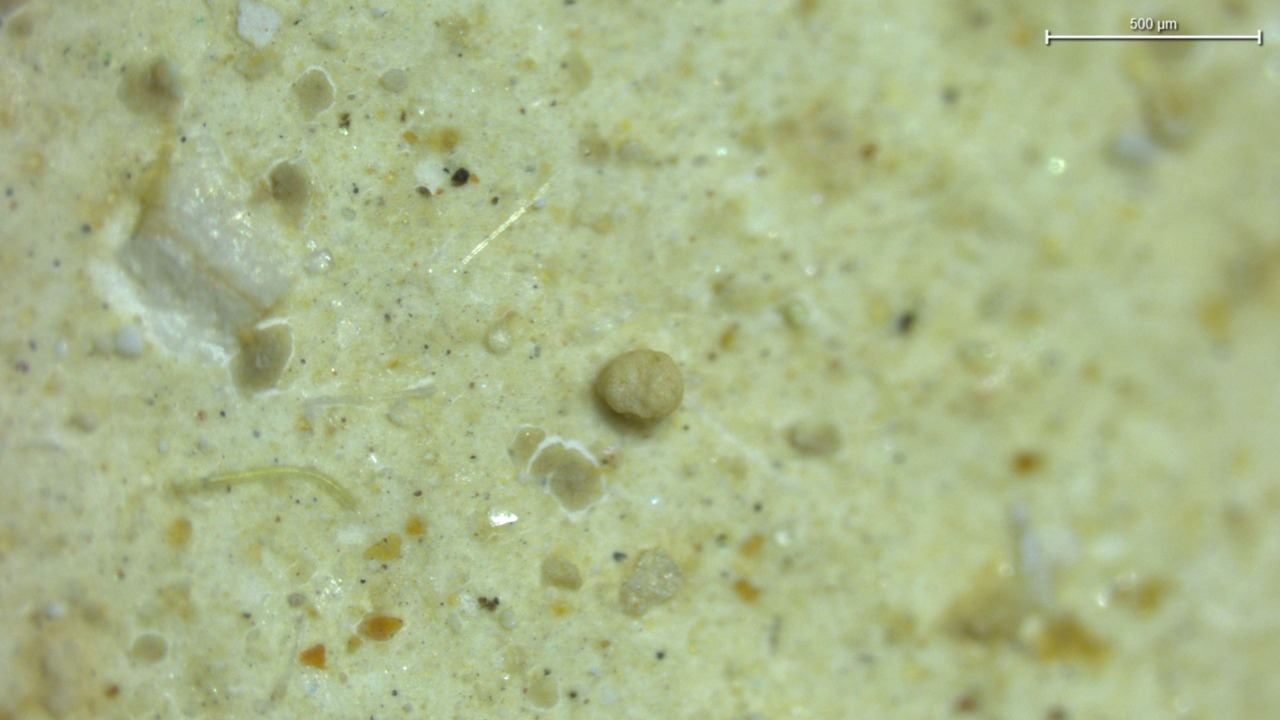microplastic_fragment: (172, 466, 355, 510), (595, 349, 684, 420), (237, 0, 281, 47)
